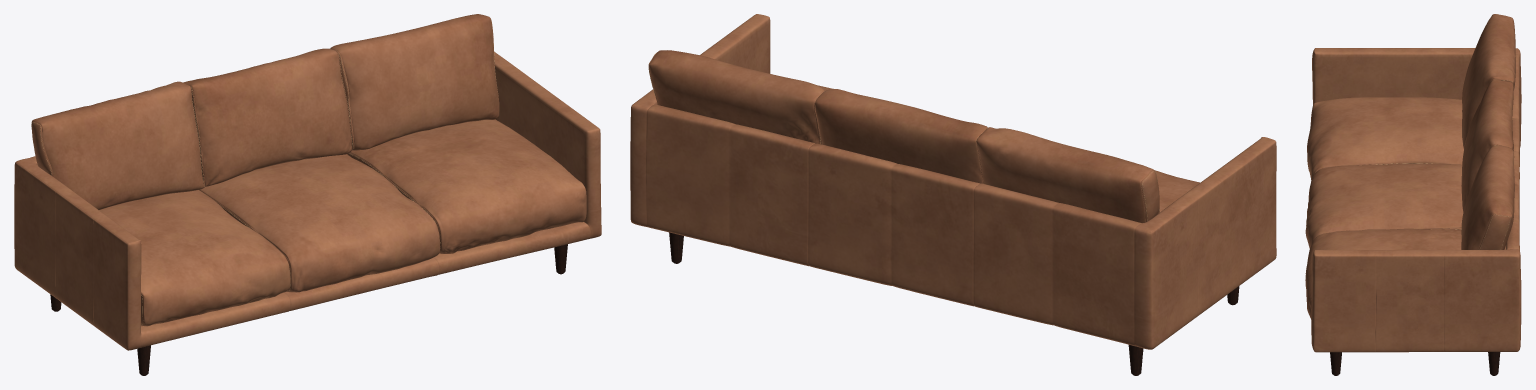
The model's file is urban-barn-sofa-compressed.glb.
3 renders of one model, left to right at view 1: azimuth 30°, elevation 25°; view 2: azimuth 150°, elevation 25°; view 3: azimuth 270°, elevation 25°, orthographic. The views are drawn at different scales.
Parts seen in each view (by area): view 1: OWCO2182_FE0020T_Seater_003.001, OWCO2182_FE0020T_Seater_004.001, OWCO2182_FE0020T_Seater_002.001, OWCO2182_FE0020T_Leg_001.001; view 2: OWCO2182_FE0020T_Seater_002.001, OWCO2182_FE0020T_Seater_004.001, OWCO2182_FE0020T_Seater_003.001, OWCO2182_FE0020T_Leg_001.001; view 3: OWCO2182_FE0020T_Seater_002.001, OWCO2182_FE0020T_Seater_003.001, OWCO2182_FE0020T_Seater_004.001, OWCO2182_FE0020T_Leg_001.001.
Part boxes in pixels (x1=…): OWCO2182_FE0020T_Seater_003.001: x1=99, y1=119, x2=586, y2=326; OWCO2182_FE0020T_Seater_004.001: x1=31, y1=14, x2=499, y2=209; OWCO2182_FE0020T_Seater_002.001: x1=14, y1=51, x2=601, y2=350; OWCO2182_FE0020T_Leg_001.001: x1=50, y1=244, x2=567, y2=375; OWCO2182_FE0020T_Seater_002.001: x1=630, y1=14, x2=1276, y2=349; OWCO2182_FE0020T_Seater_004.001: x1=648, y1=50, x2=1159, y2=222; OWCO2182_FE0020T_Seater_003.001: x1=817, y1=85, x2=1199, y2=212; OWCO2182_FE0020T_Leg_001.001: x1=669, y1=232, x2=1239, y2=375; OWCO2182_FE0020T_Seater_002.001: x1=1311, y1=48, x2=1521, y2=352; OWCO2182_FE0020T_Seater_003.001: x1=1305, y1=97, x2=1505, y2=319; OWCO2182_FE0020T_Seater_004.001: x1=1461, y1=14, x2=1515, y2=249; OWCO2182_FE0020T_Leg_001.001: x1=1330, y1=352, x2=1500, y2=375.
Bounding box in the file's own units: 209 × 81.43 × 91.33.
Materials: 5 (5 with a texture image).
